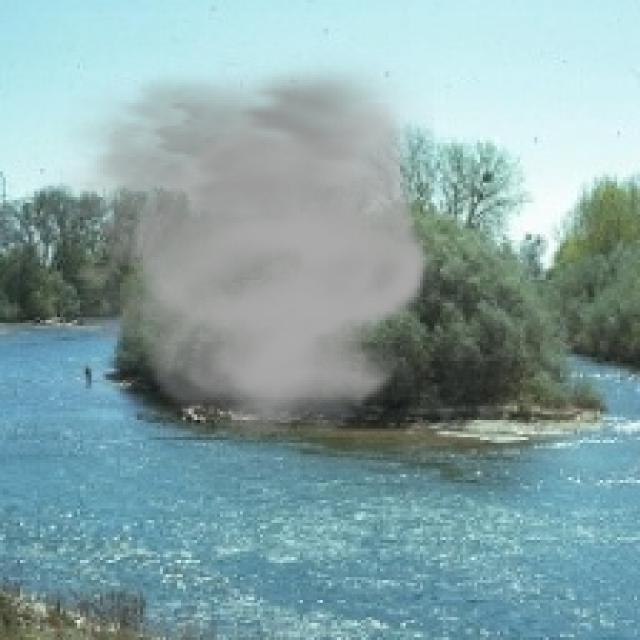Smoke: (26, 51, 434, 440)
